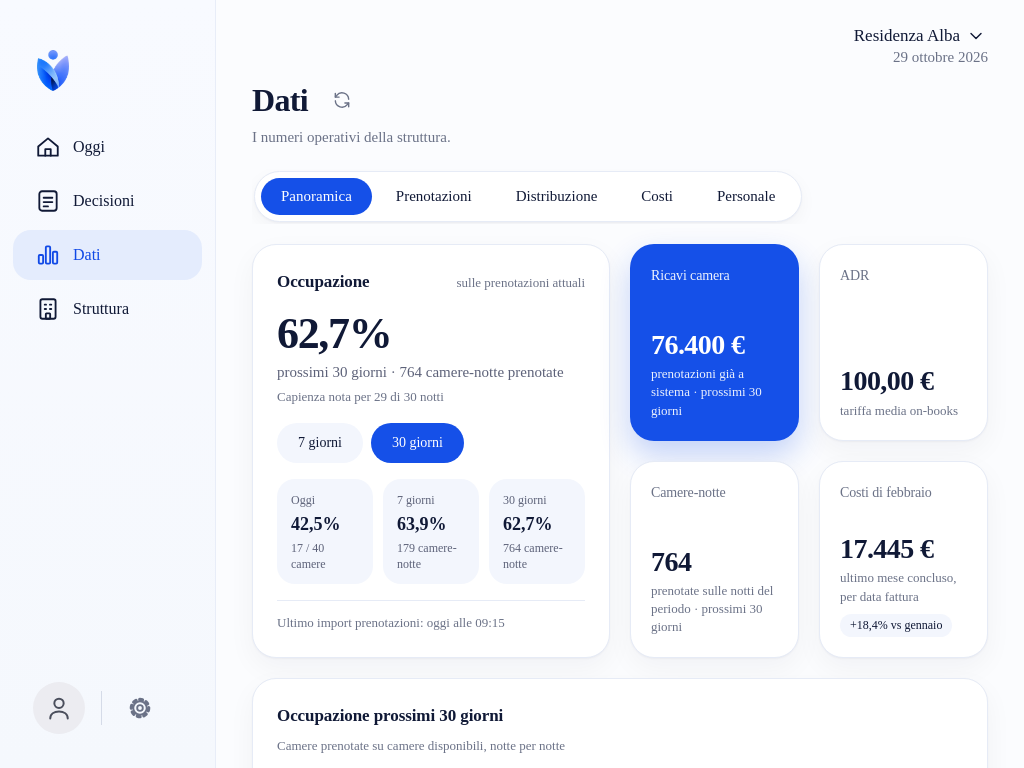
it: property selection - 0 / 1 / N › with several properties offers a selector, and a switch replaces EVERY displayed figure
Expected: the 1st text "62,7%" is shown, [277,308,391,358]
Step 1. Select "Villa Solare" in the dropdown named "Struttura attiva" → coordinates (916, 36), box [844,24,988,47]
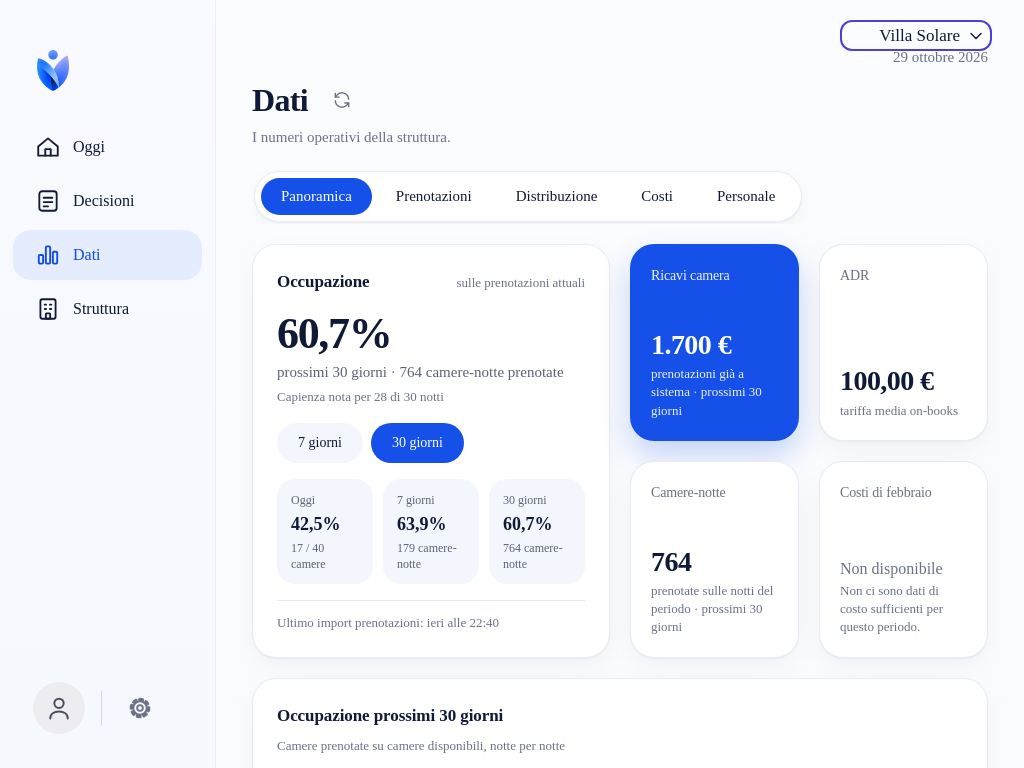
Now the 1st text "60,7%" is shown, box [277,308,391,358]
Now the text "62,7%" is gone
